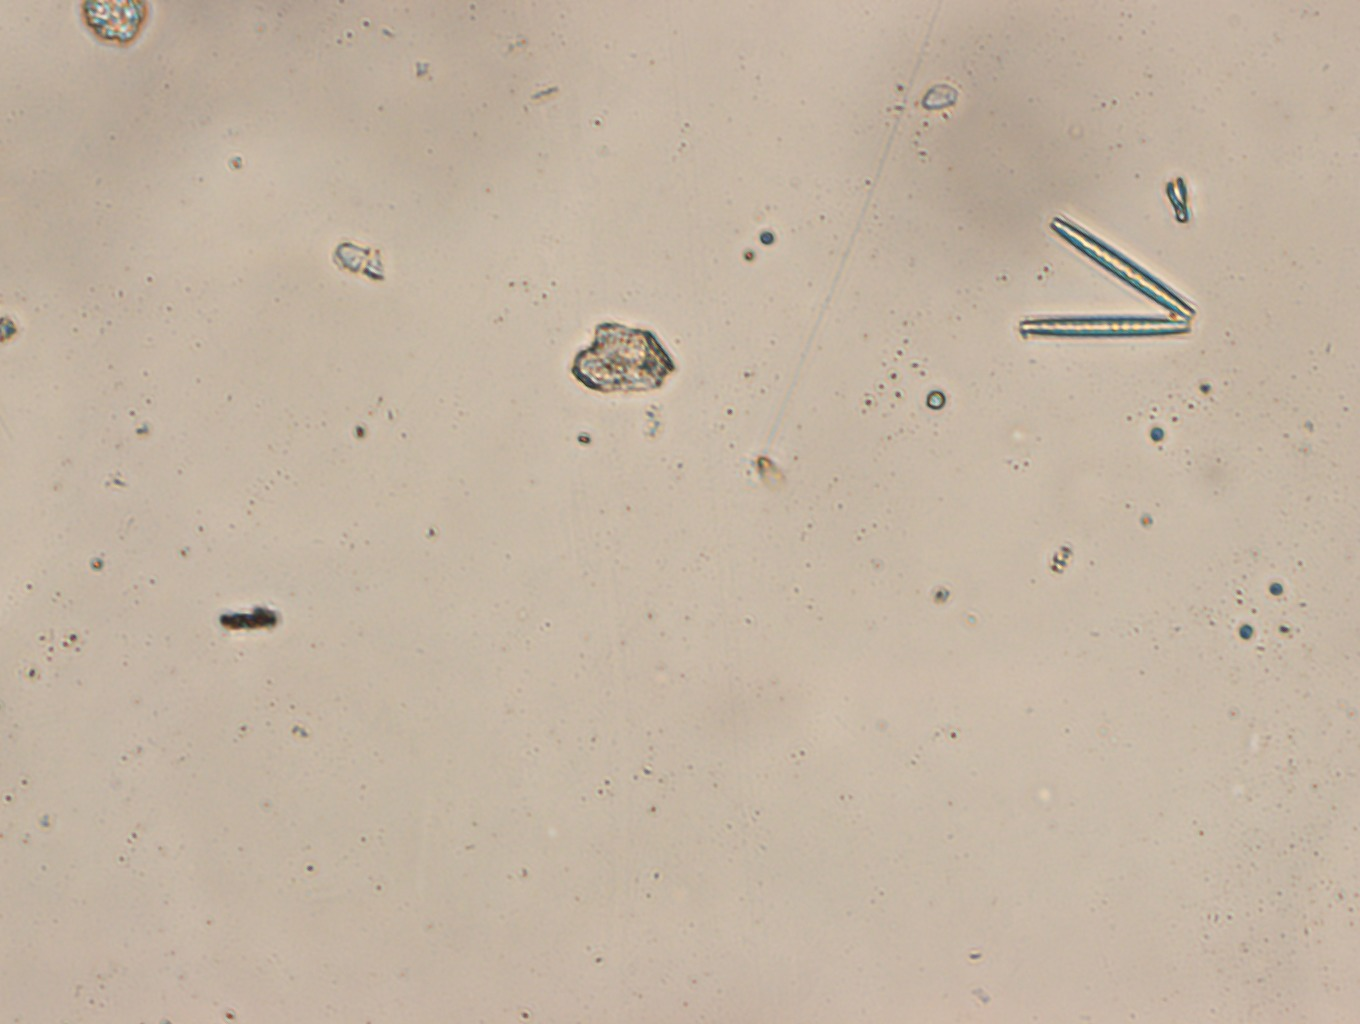thalassionema nitzschioides: (1017, 215, 1196, 341)
